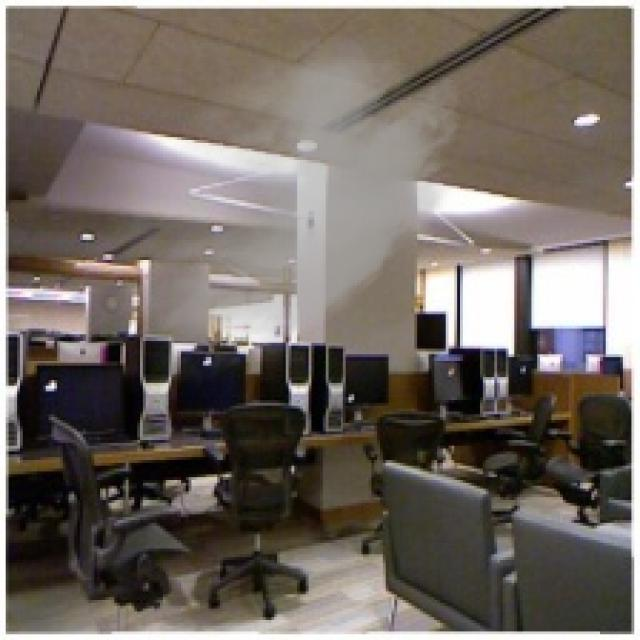smoke: (72, 17, 474, 392)
